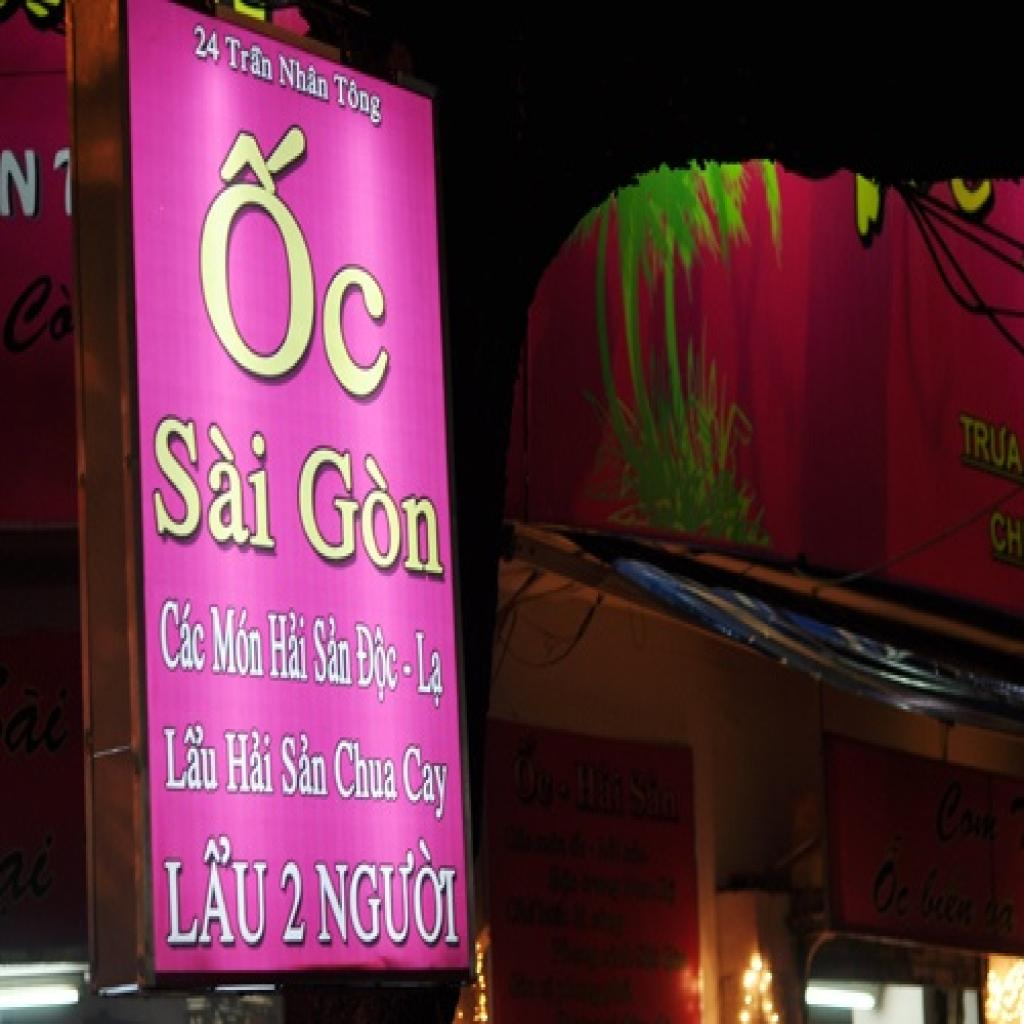text: (194, 74, 398, 420), (293, 426, 448, 587), (150, 406, 282, 558), (311, 834, 465, 953), (162, 826, 274, 953), (2, 272, 76, 363), (2, 675, 76, 763), (352, 618, 418, 712), (930, 772, 1008, 851), (330, 732, 403, 806), (868, 825, 920, 925), (209, 598, 268, 684), (956, 406, 1024, 480), (160, 718, 223, 797), (397, 740, 453, 828), (915, 862, 981, 934), (158, 593, 211, 678), (223, 723, 279, 803), (276, 729, 334, 803), (310, 604, 356, 692), (264, 602, 311, 686), (332, 66, 387, 134), (627, 760, 682, 828), (274, 857, 312, 953), (0, 145, 43, 227), (571, 757, 629, 817), (276, 48, 332, 108), (224, 28, 276, 88), (414, 624, 448, 715), (190, 17, 226, 74), (989, 508, 1024, 564)
